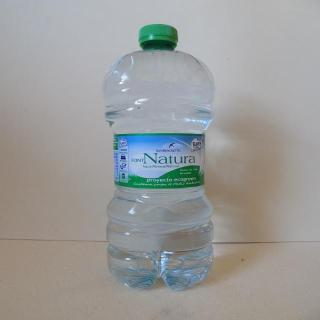Plastic-bottle: (98, 23, 224, 295)
